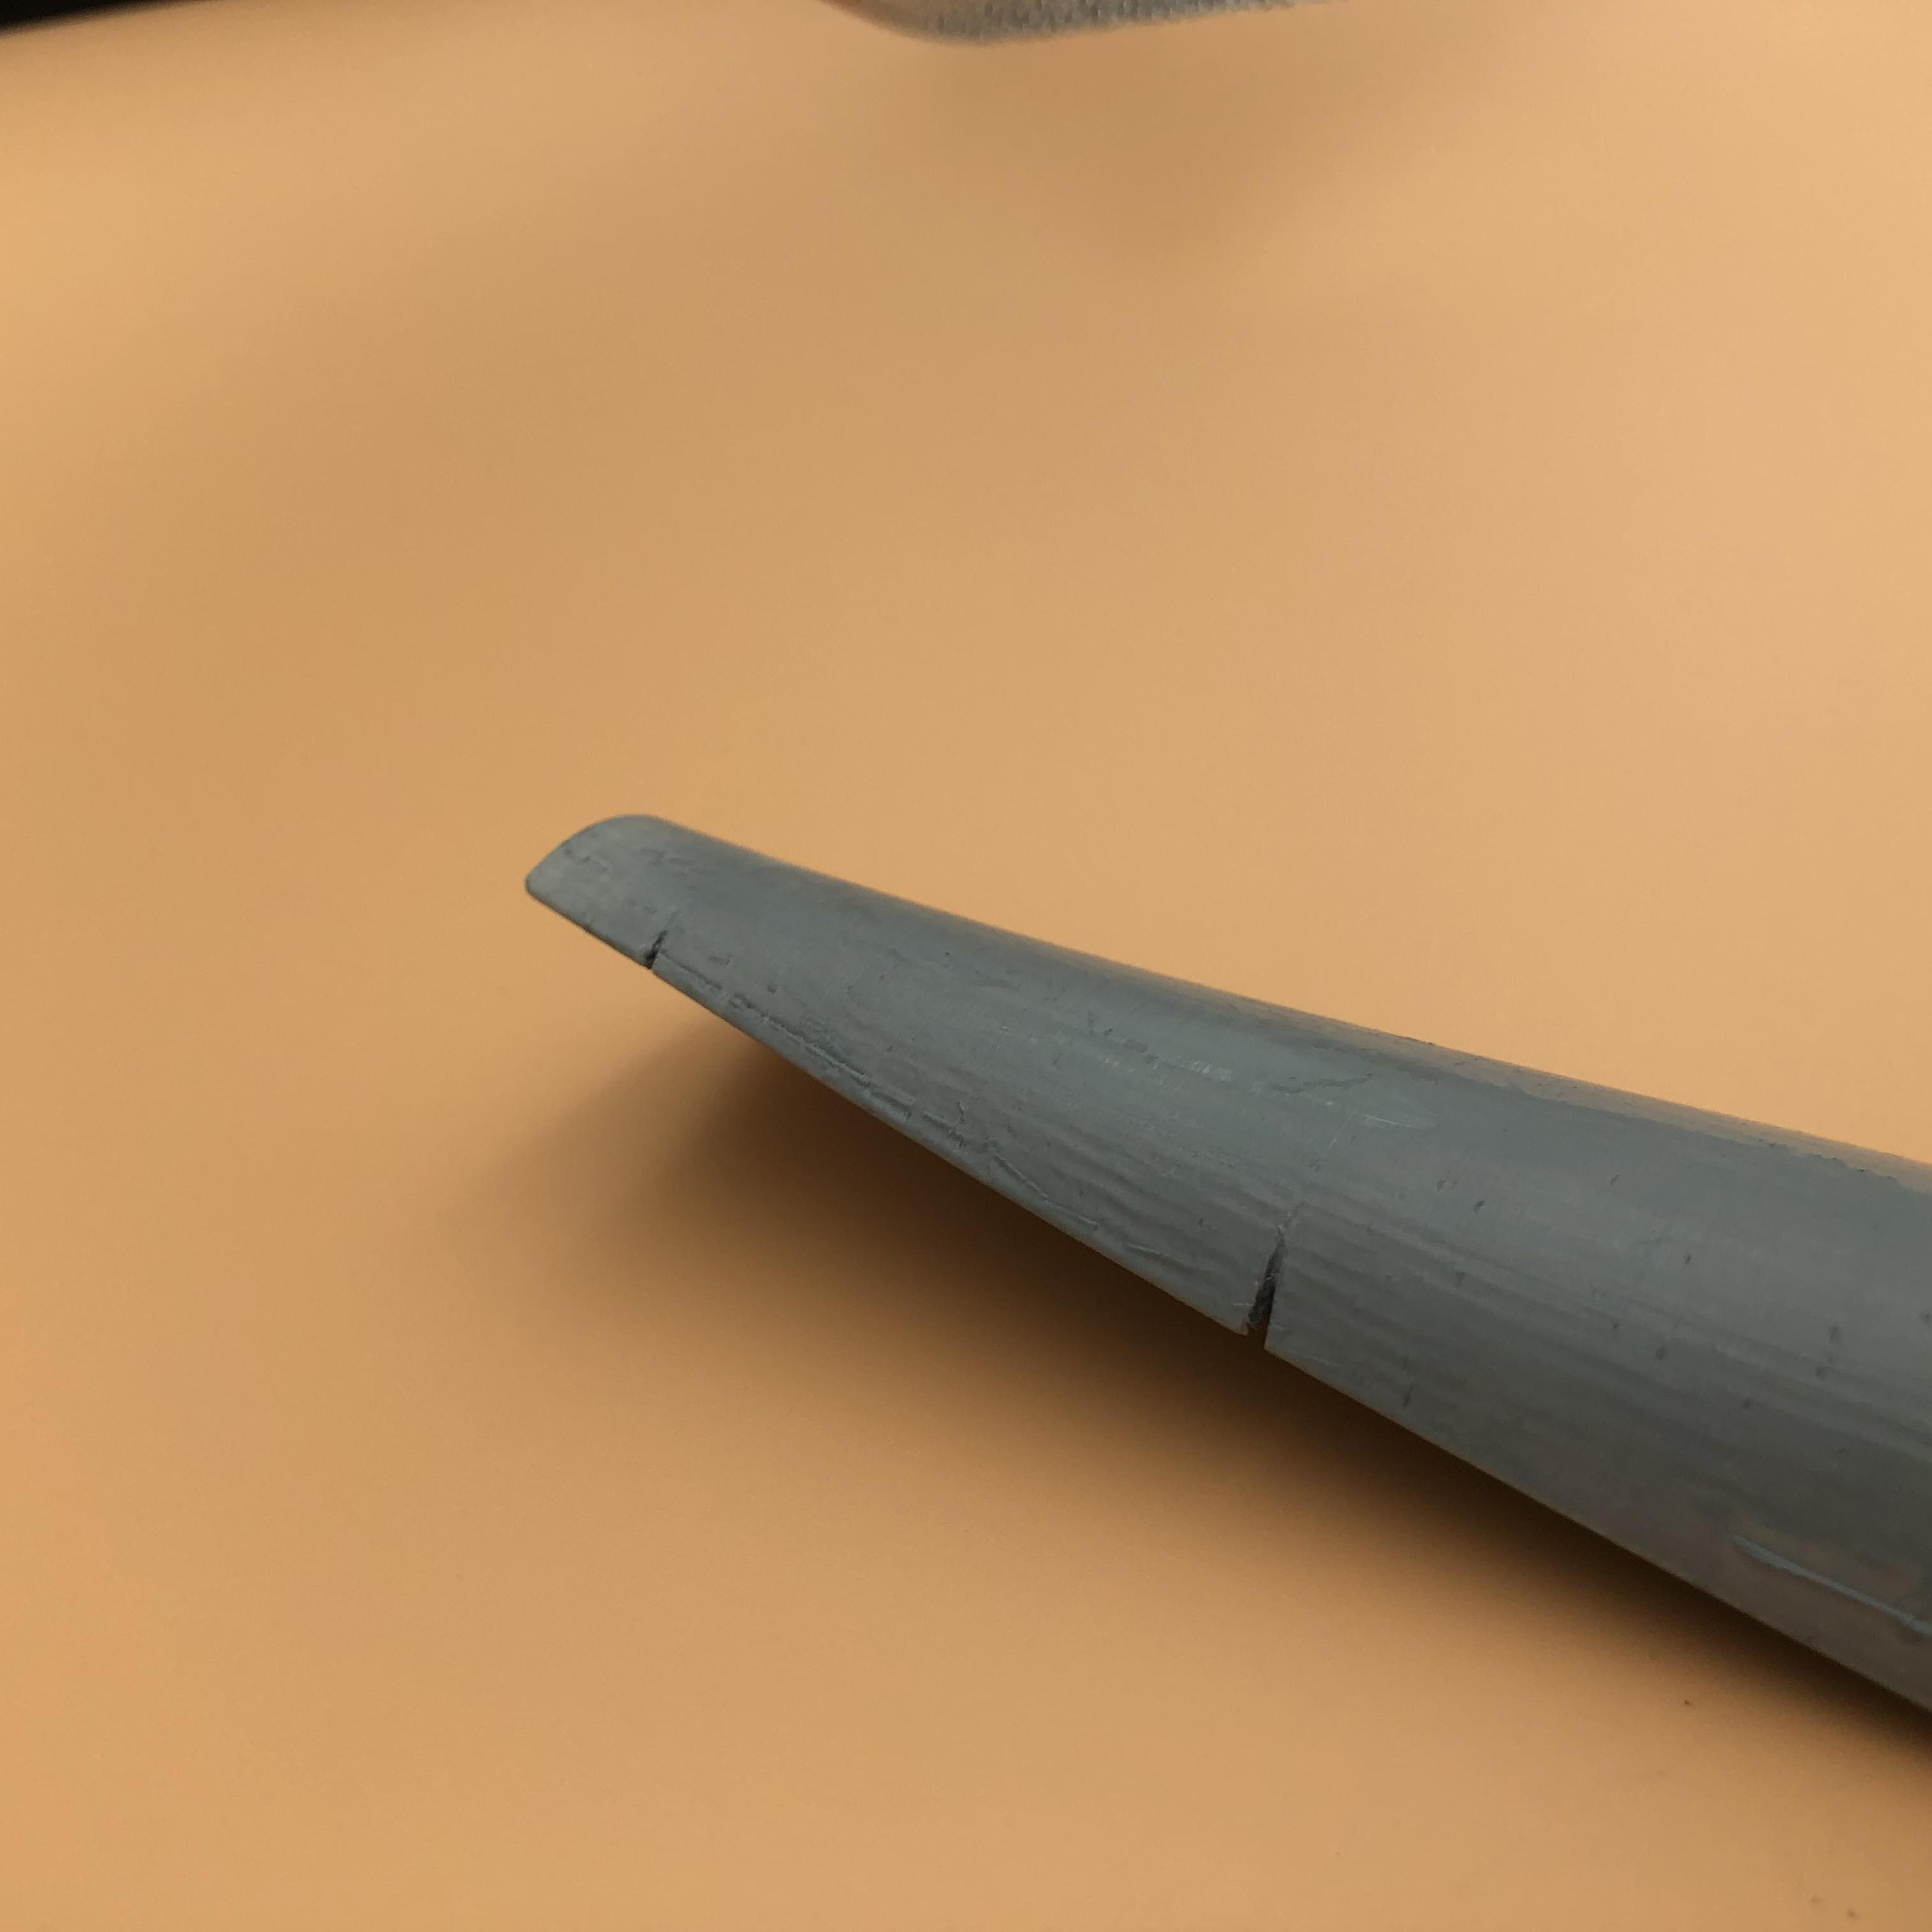groove: (1237, 1219, 1304, 1357), (640, 922, 685, 971)
